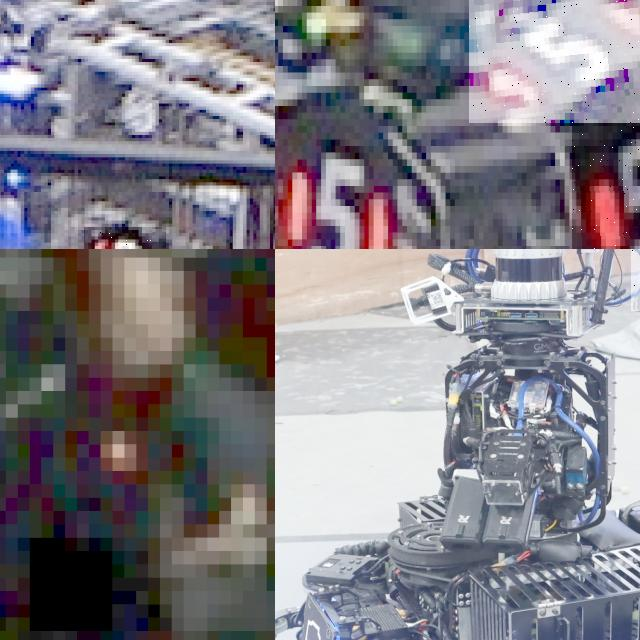Bs: (289, 606, 343, 640)
R2: (84, 227, 165, 249)
R5: (469, 0, 640, 122), (275, 132, 390, 249), (571, 122, 640, 249)
